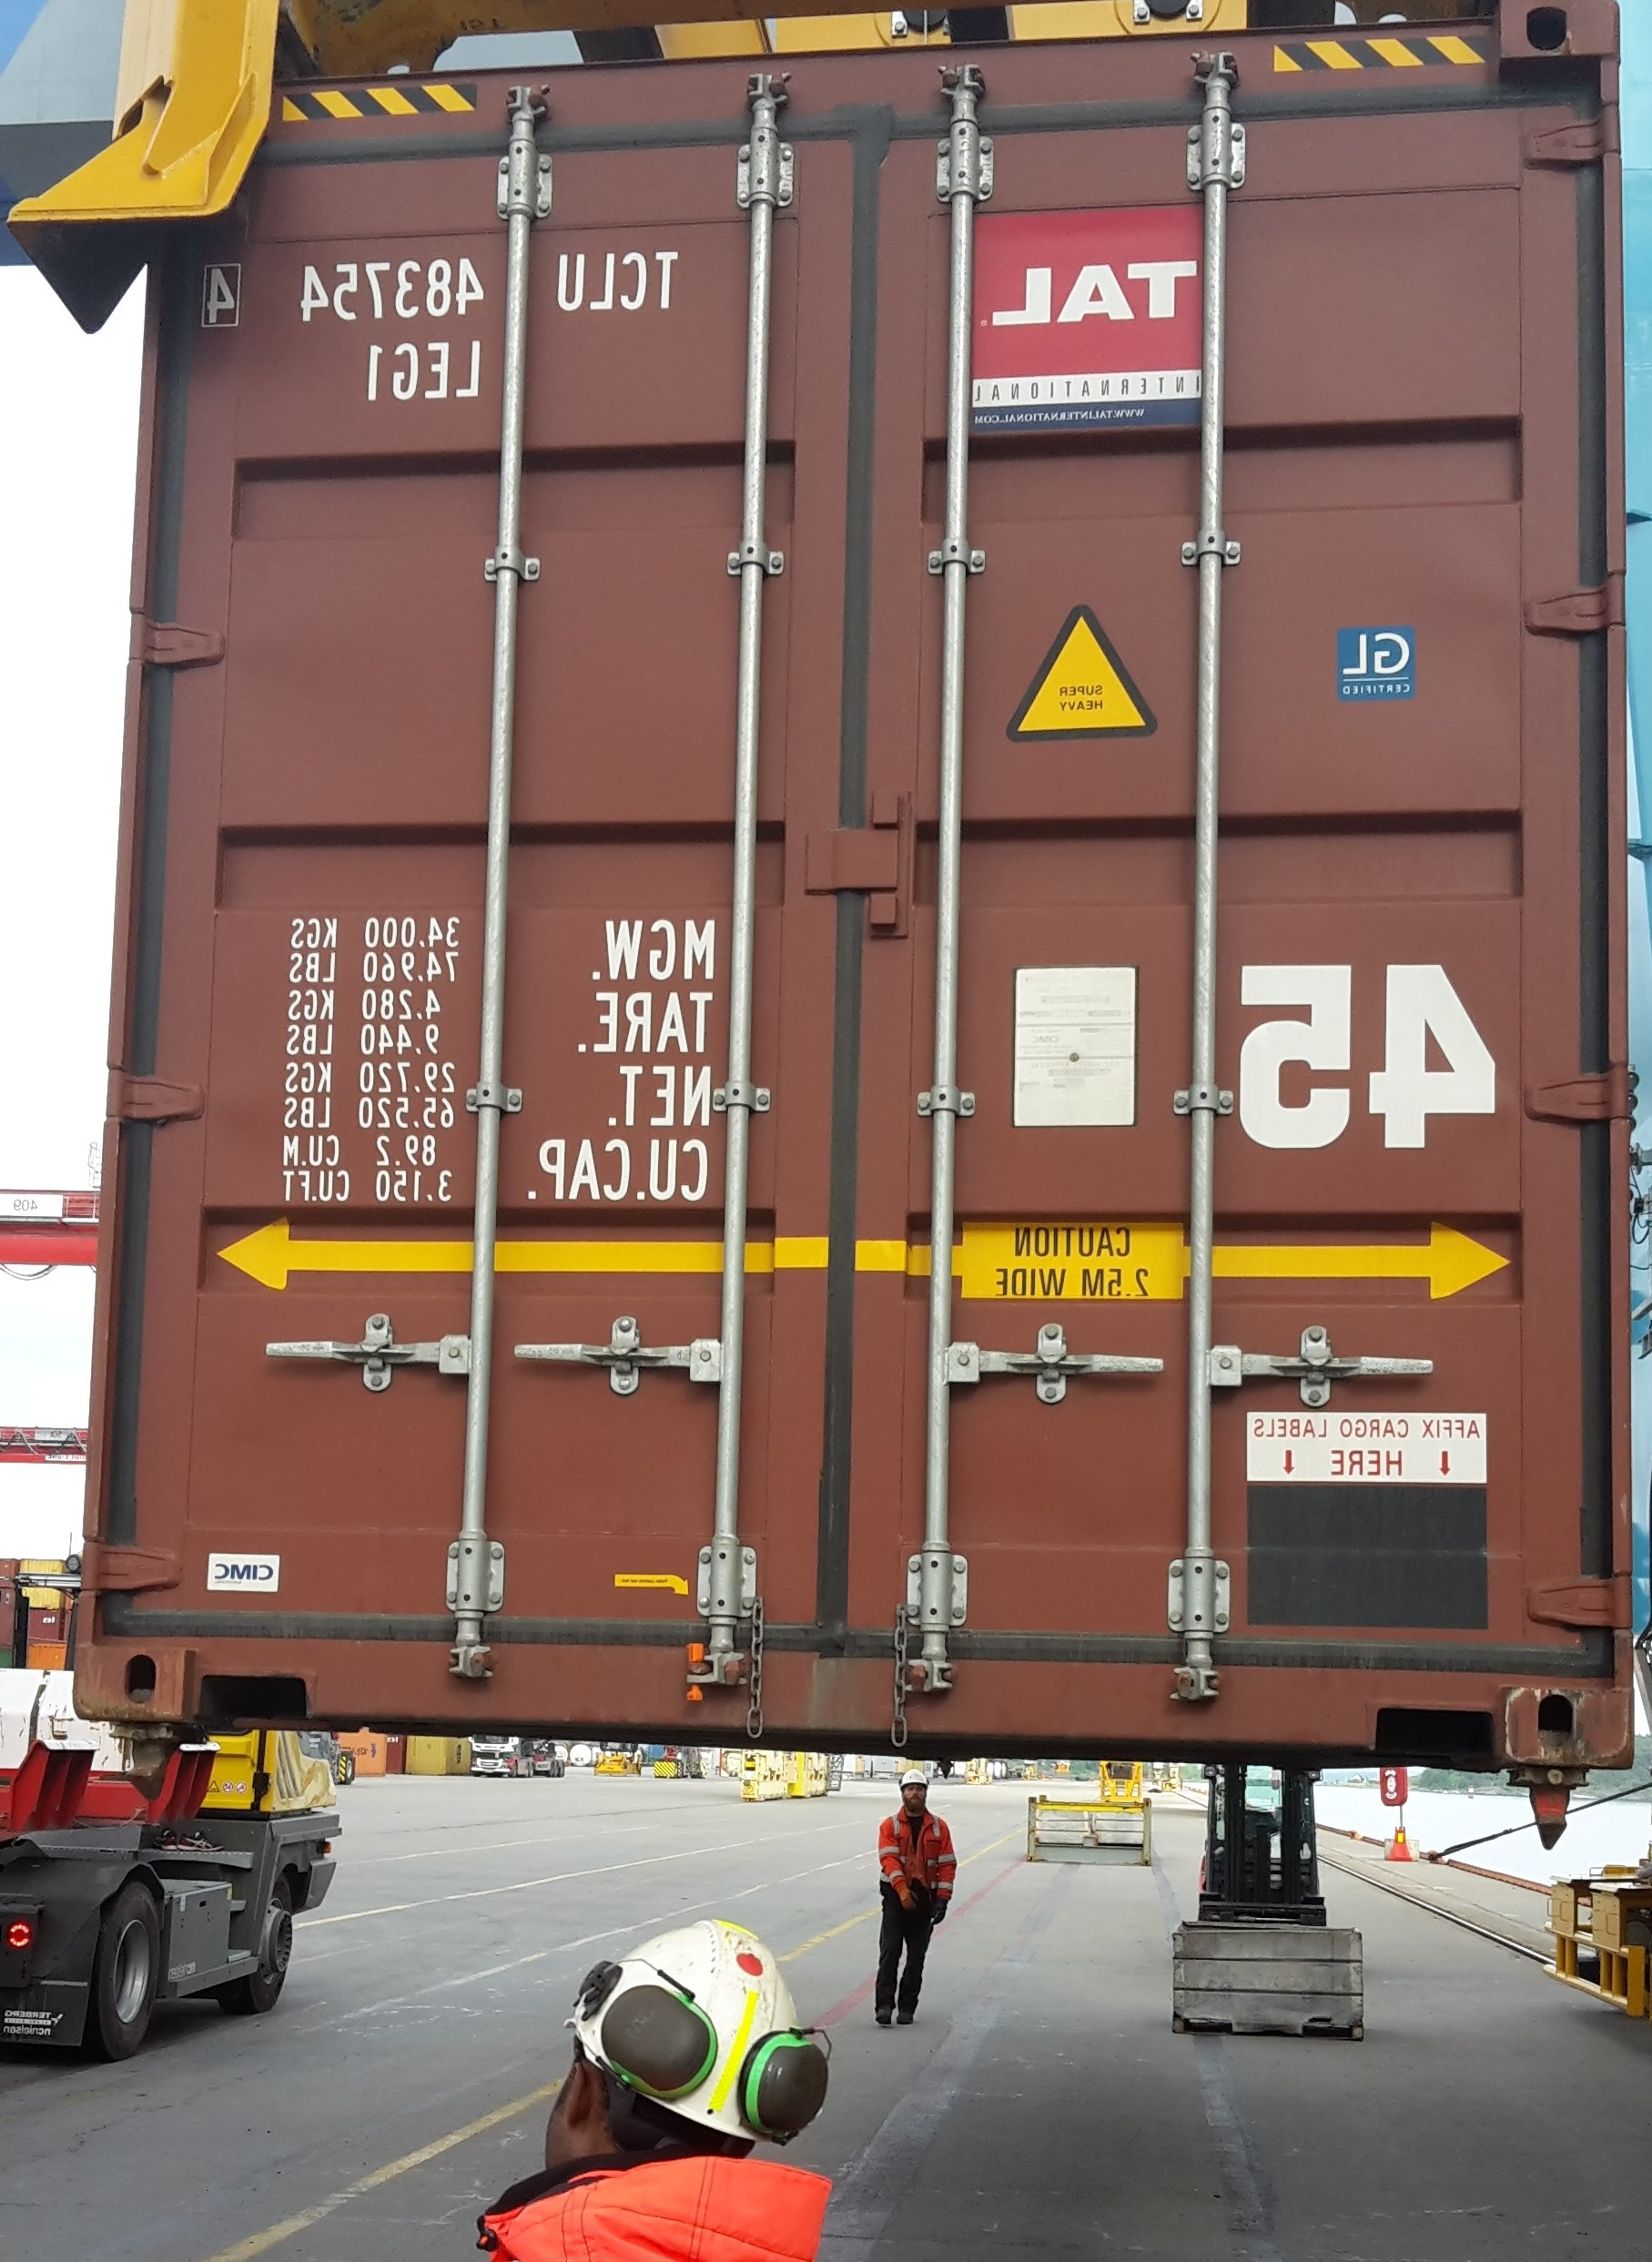container_door: (97, 11, 1629, 1737)
twist_lock_1: (1475, 1726, 1652, 1913), (91, 1691, 211, 1833)
